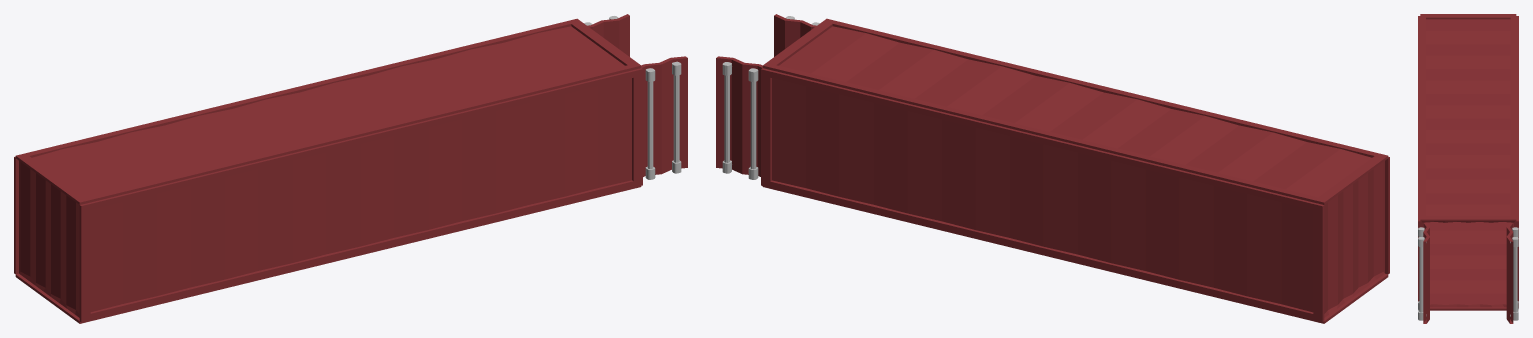
Rendered from ContainerAberto_A01.fbx.
3 views of the same model, side by side, from view 1: azimuth 30°, elevation 25°; view 2: azimuth 150°, elevation 25°; view 3: azimuth 270°, elevation 25° (orthographic). The views are drawn at different scales.
Parts seen in each view (by area): view 1: Counteiner, Cabo; view 2: Counteiner, Cabo; view 3: Counteiner, Cabo.
Boxes of the visible parts, x1,y1,x2,y2 form: Counteiner: (14,14,687,323); Cabo: (584,16,681,179); Counteiner: (716,14,1389,323); Cabo: (722,16,819,179); Counteiner: (1418,14,1518,323); Cabo: (1418,227,1518,320).
Bounding box in the file's own units: 742 × 141 × 142.
